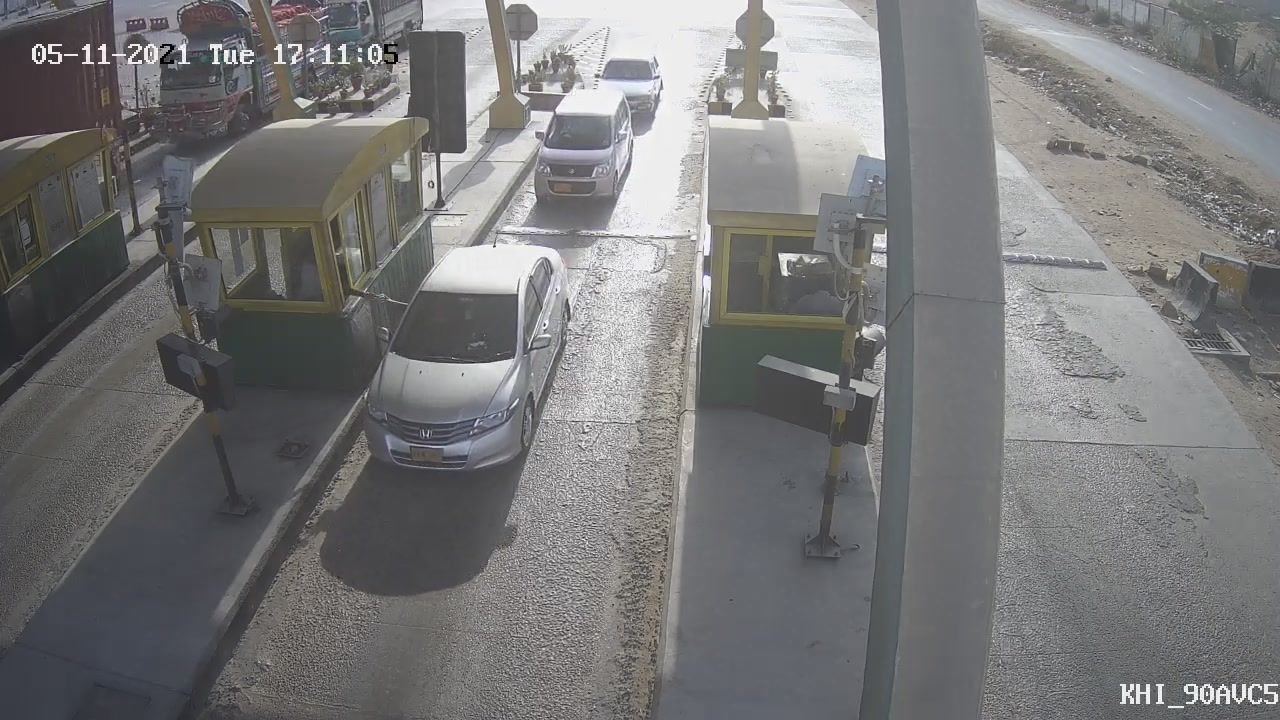F1: (340, 221, 587, 499), (512, 70, 657, 226)
